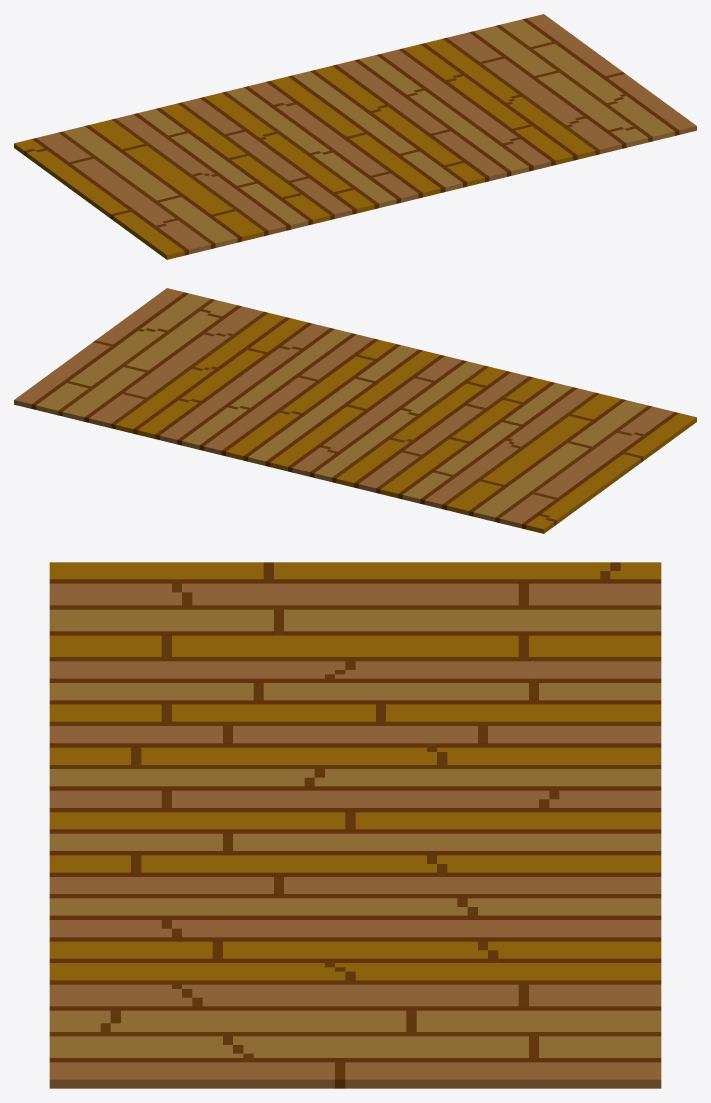
The model's file is WoodenFloor.obj.
3 renders of one model, top to bottom at view 1: azimuth 30°, elevation 25°; view 2: azimuth 150°, elevation 25°; view 3: azimuth 270°, elevation 25°, orthographic. The views are drawn at different scales.
Bounding box in the file's own units: 12 × 0.1 × 6.
Materials: 1 (1 with a texture image).
